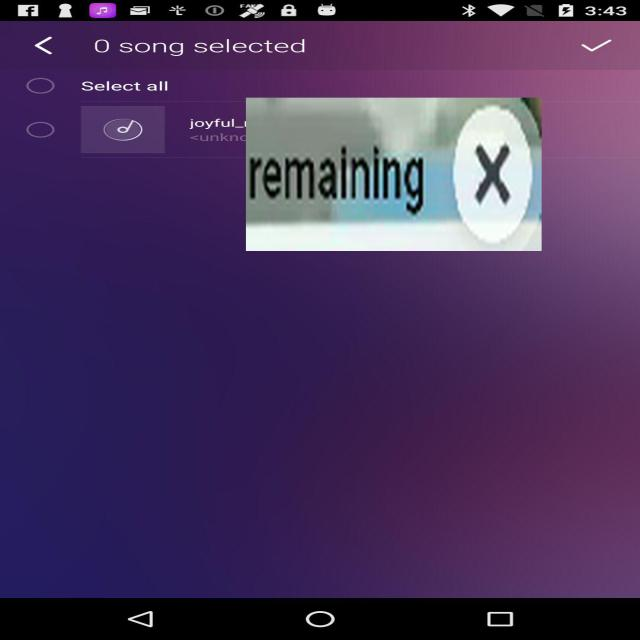misdirection: (246, 98, 542, 251)
